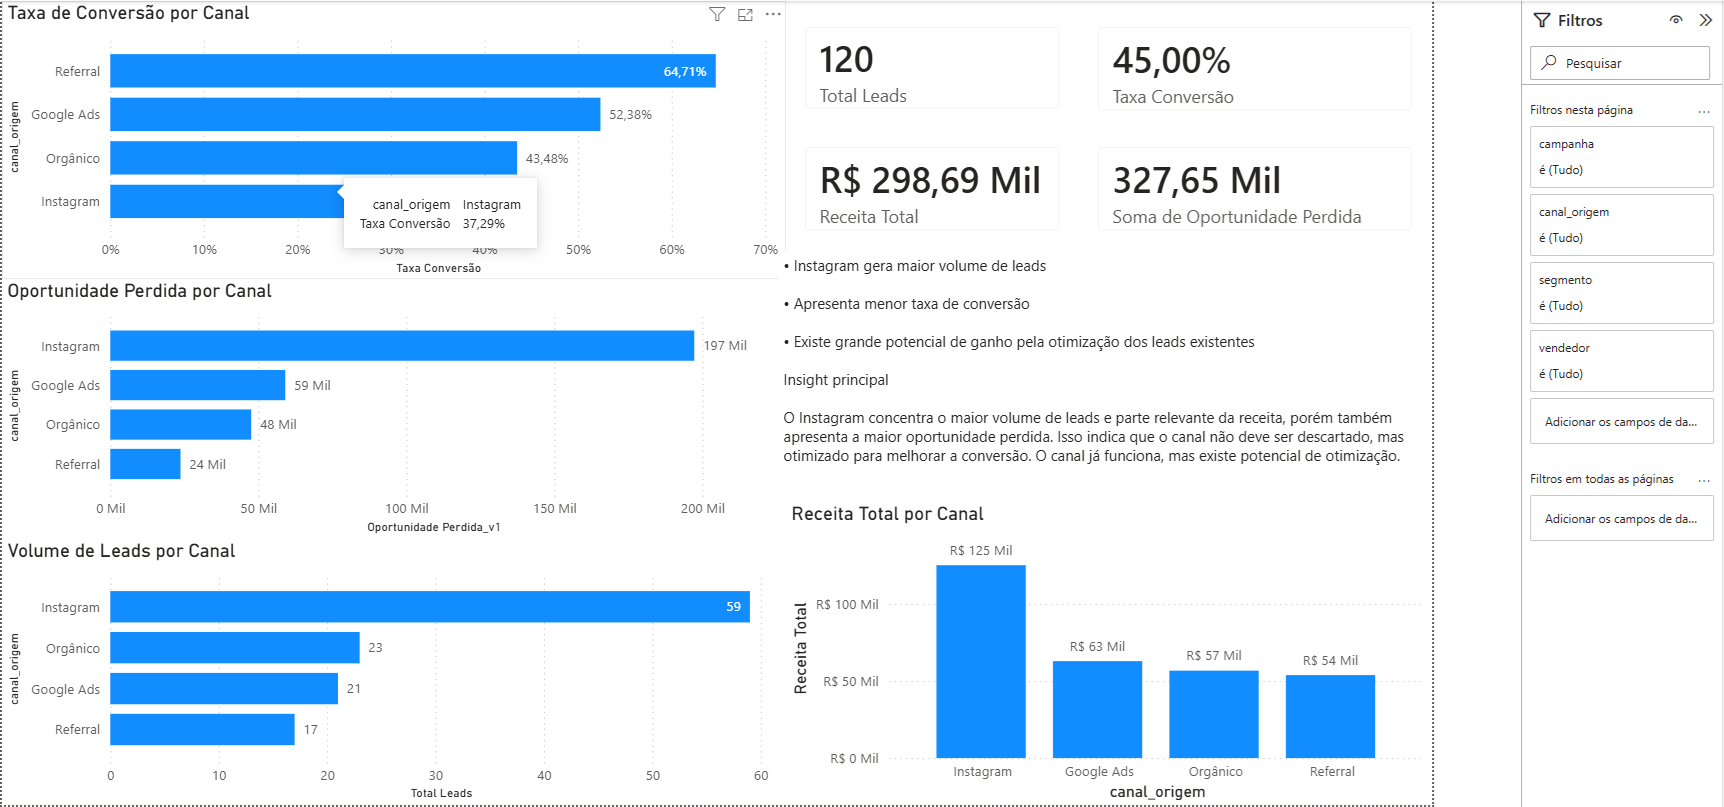

The dashboard page shown, as its layout file describes it:
{"tool":"powerbi","page":{"name":"Página 1","canvas":[1280,720],"ordinal":0},"visuals":[{"type":"cardVisual","fields":{"Data":["base_tratada.Taxa Conversão"]},"box":[964.5,6.3,315.2,109.3],"z":0},{"type":"cardVisual","title":"Oportunidade Perdida","fields":{"Data":["Sum(base_tratada.oportunidade perdida_Reais)"]},"box":[964.5,113.7,315.2,109.3],"z":1000},{"type":"cardVisual","fields":{"Data":["base_tratada.Receita Total"]},"box":[702.1,113.7,262.4,109.3],"z":2000},{"type":"cardVisual","fields":{"Data":["base_tratada.Total Leads"]},"box":[702.1,6.3,262.4,107.5],"z":3000},{"type":"barChart","title":"Oportunidade Perdida por Canal","fields":{"Y":["base_tratada.Oportunidade Perdida"],"Category":["base_tratada.canal_origem"]},"box":[0,249.3,702.3,232.5],"z":4000},{"type":"barChart","title":"Taxa de Conversão por Canal","fields":{"Y":["base_tratada.Taxa Conversão"],"Category":["base_tratada.canal_origem"]},"box":[0,0,702.3,249.3],"z":5000},{"type":"barChart","title":"Volume de Leads por Canal","fields":{"Category":["base_tratada.canal_origem"],"Y":["base_tratada.Total Leads"]},"box":[0,481.8,702.3,238.5],"z":6000},{"type":"columnChart","title":"Receita Total por Canal","fields":{"Category":["base_tratada.canal_origem"],"Y":["base_tratada.Receita Total"]},"box":[702.2,448.4,577.8,272.3],"z":7000},{"type":"textbox","box":[694.9,223,577.6,225.7],"z":8000}]}

Visuals, with their boxes on the page's 1280x720 design canvas (x1, y1, x2, y2). These are canvas units, not pixel positions in the 1724x807 screenshot, which may show the page scaled, cropped or inside an application window:
cardVisual - base_tratada.Taxa Conversão: (left=964, top=6, right=1280, bottom=116)
"Oportunidade Perdida" cardVisual: (left=964, top=114, right=1280, bottom=223)
cardVisual - base_tratada.Receita Total: (left=702, top=114, right=964, bottom=223)
cardVisual - base_tratada.Total Leads: (left=702, top=6, right=964, bottom=114)
"Oportunidade Perdida por Canal" barChart: (left=0, top=249, right=702, bottom=482)
"Taxa de Conversão por Canal" barChart: (left=0, top=0, right=702, bottom=249)
"Volume de Leads por Canal" barChart: (left=0, top=482, right=702, bottom=720)
"Receita Total por Canal" columnChart: (left=702, top=448, right=1280, bottom=721)
textbox: (left=695, top=223, right=1272, bottom=449)
